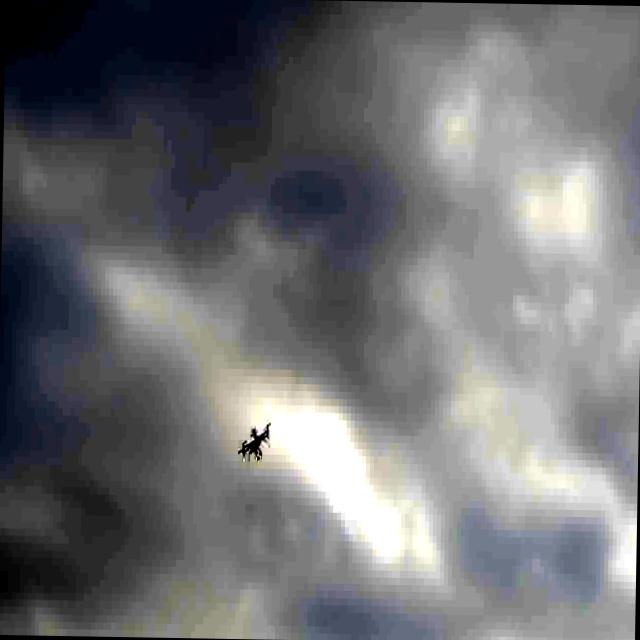drone: (238, 416, 272, 459)
